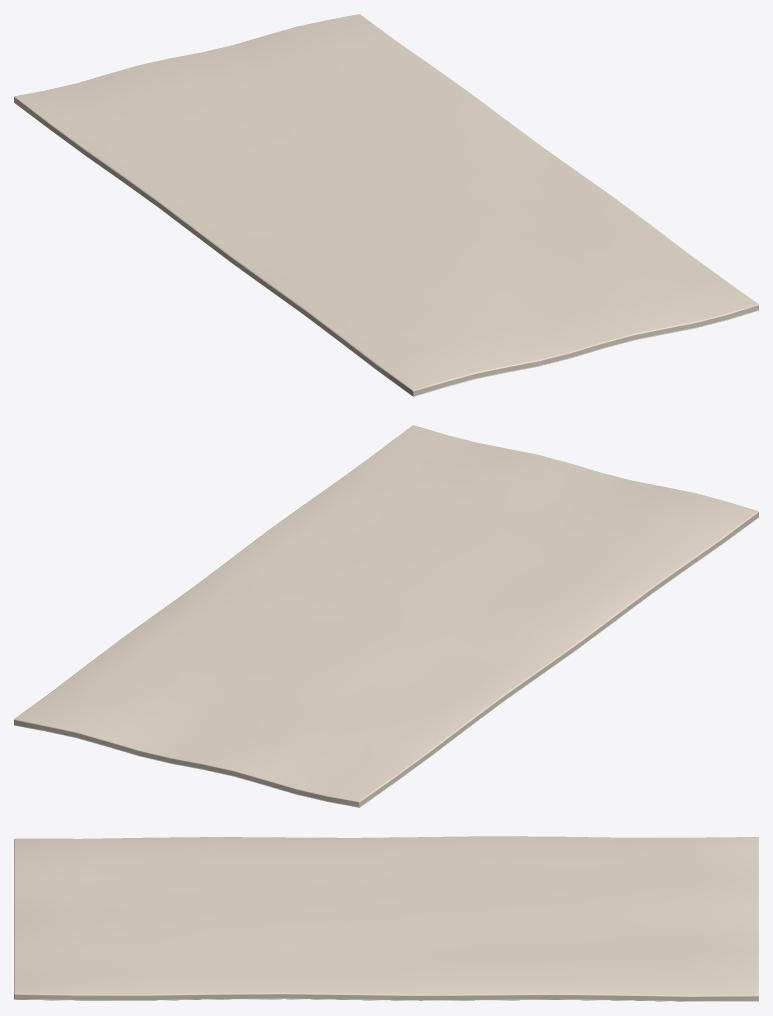
The model's file is bed_cover__301.glb.
The picture shows the model from 3 angles, top to bottom: view 1: azimuth 30°, elevation 25°; view 2: azimuth 150°, elevation 25°; view 3: azimuth 270°, elevation 25°; orthographic projection. The views are drawn at different scales.
Visible parts, largest first — view 1: bed_cover__301; view 2: bed_cover__301; view 3: bed_cover__301.
Part boxes in pixels (x1,y1,x2,y2): bed_cover__301: (14, 14, 758, 396); bed_cover__301: (14, 425, 758, 807); bed_cover__301: (14, 836, 758, 1001).
Size of the model in its own units: 1 by 0.04 by 2.
